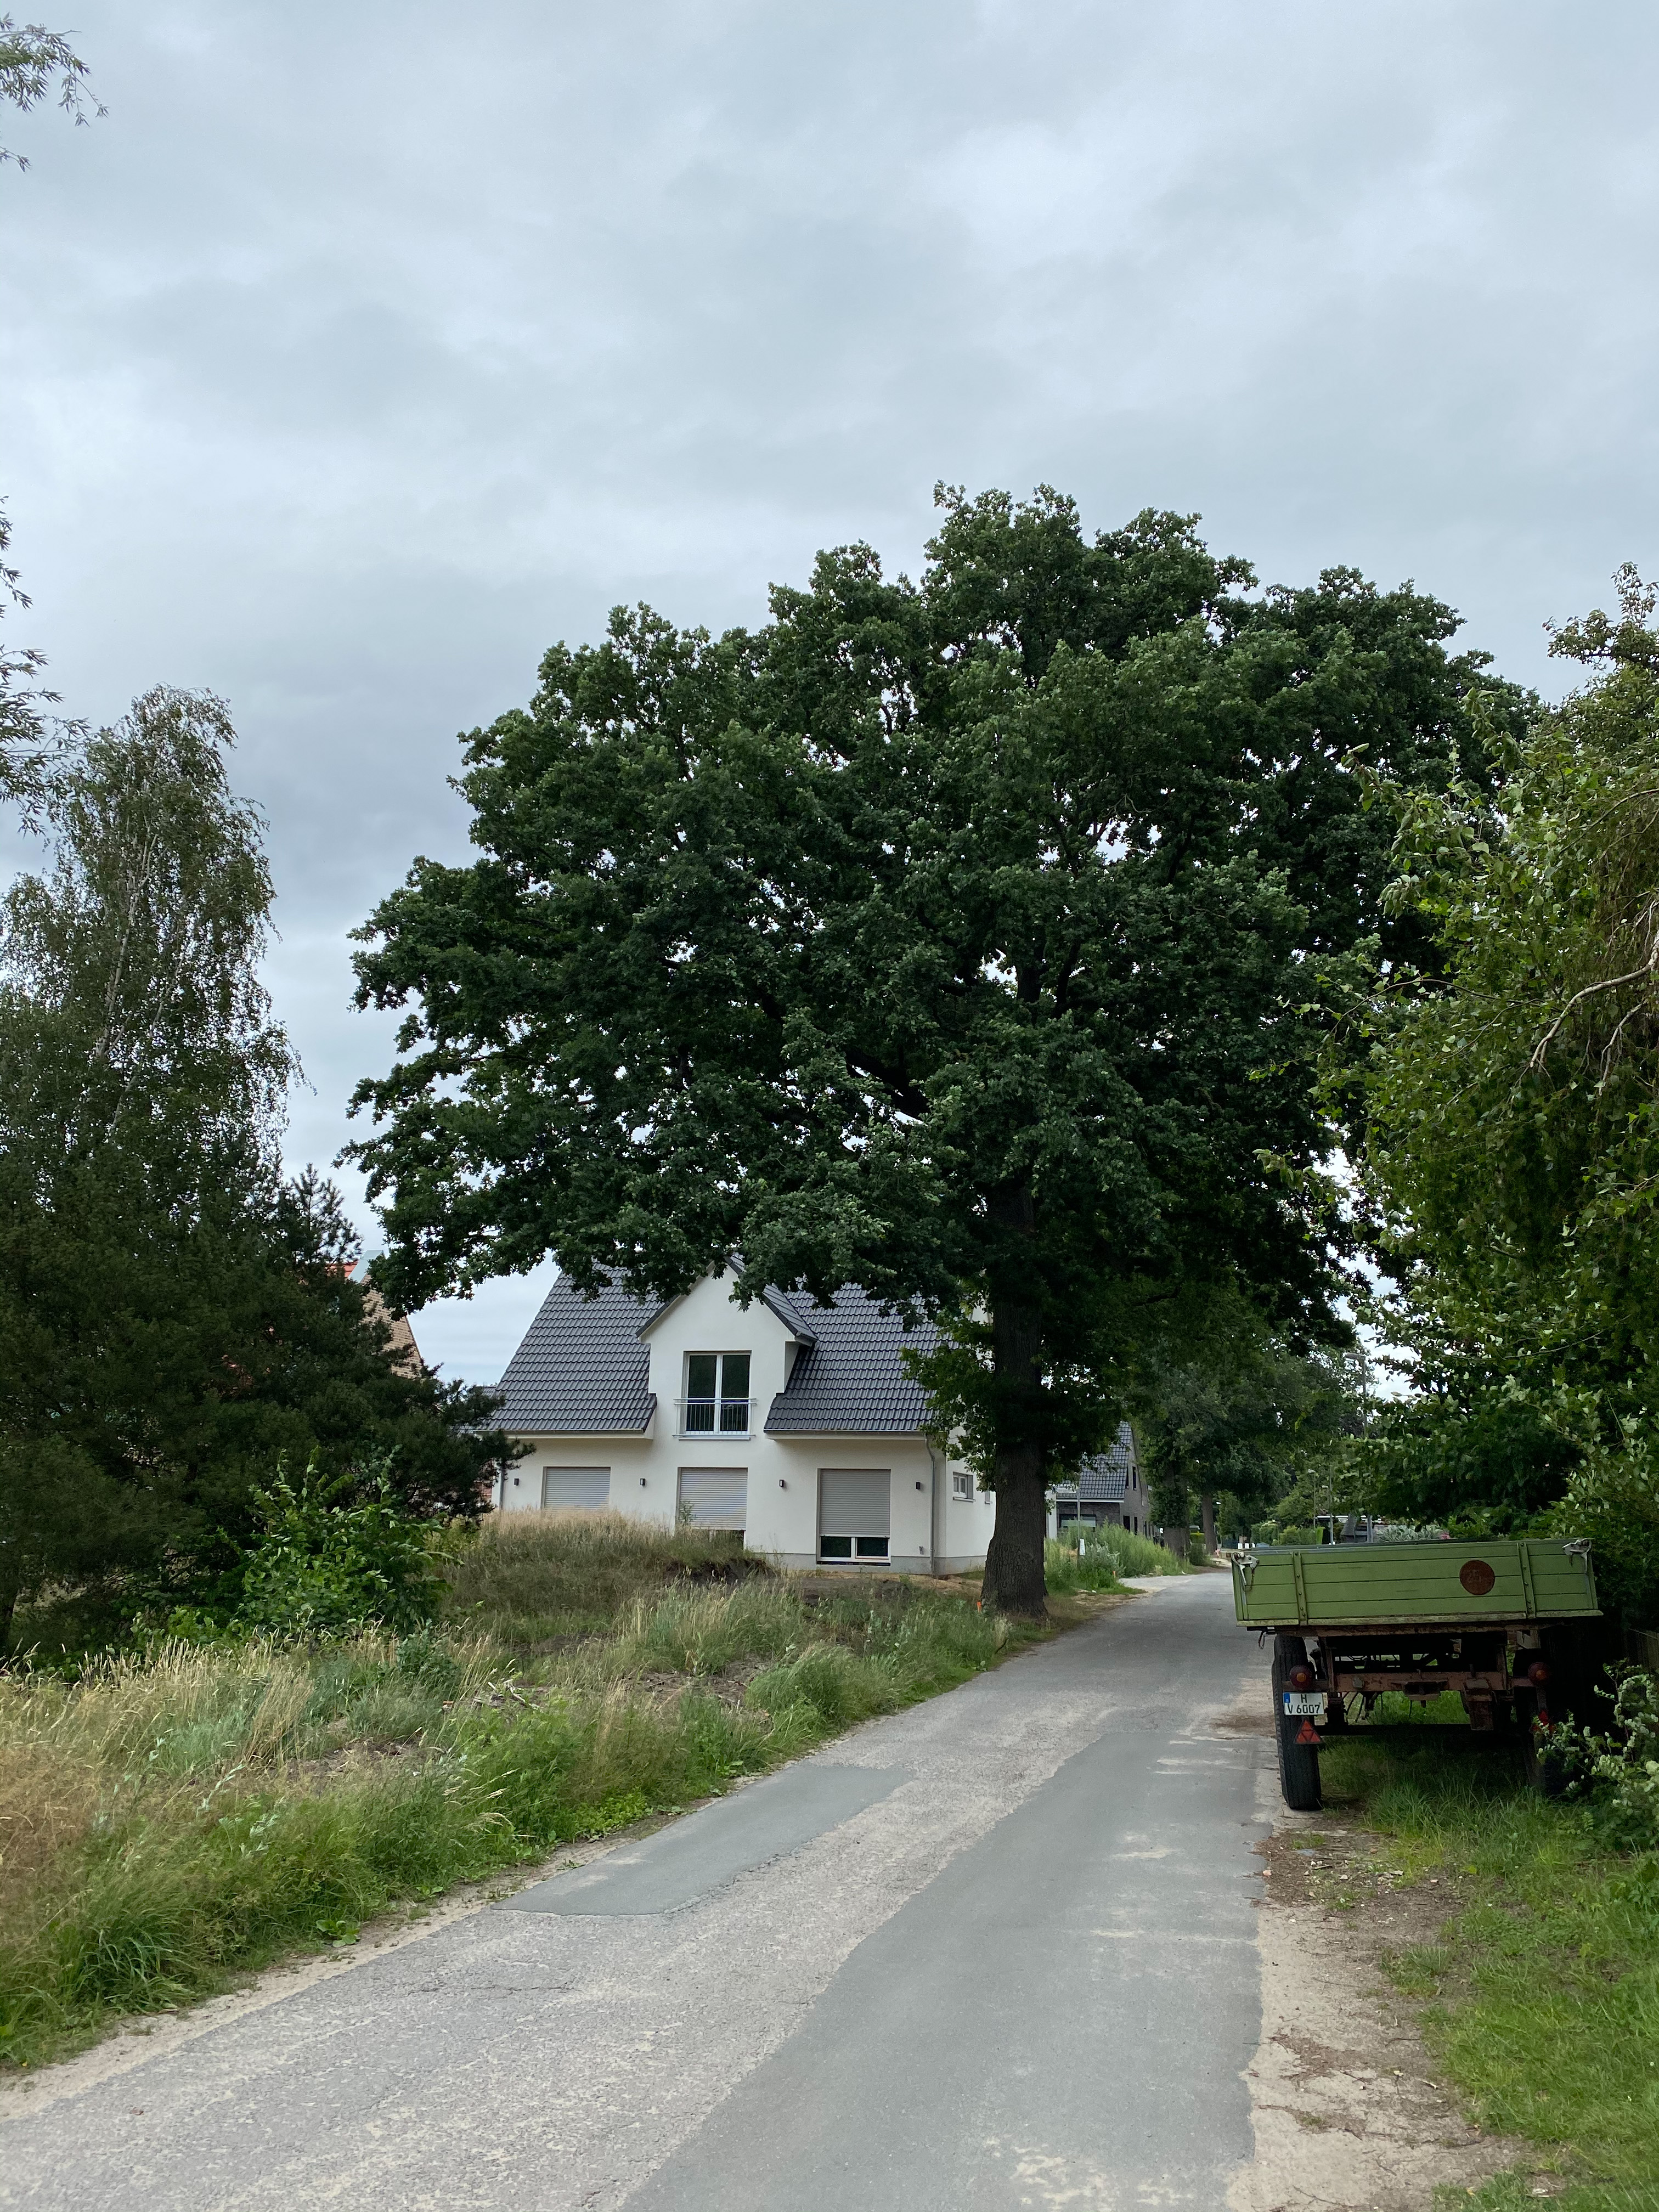tree: (329, 481, 1546, 1634), (1248, 559, 1659, 1418), (7, 683, 326, 1221), (249, 1162, 537, 1529), (0, 10, 110, 838), (1108, 1263, 1324, 1557), (1192, 1437, 1281, 1555)
